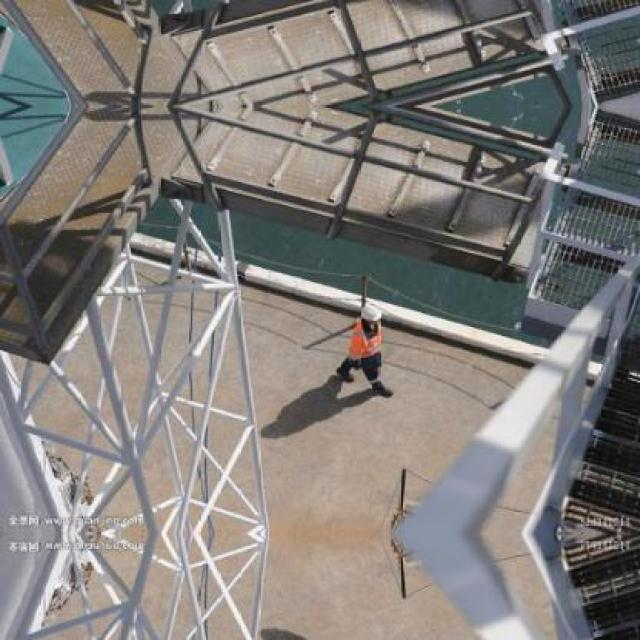helmet: (357, 299, 381, 329)
